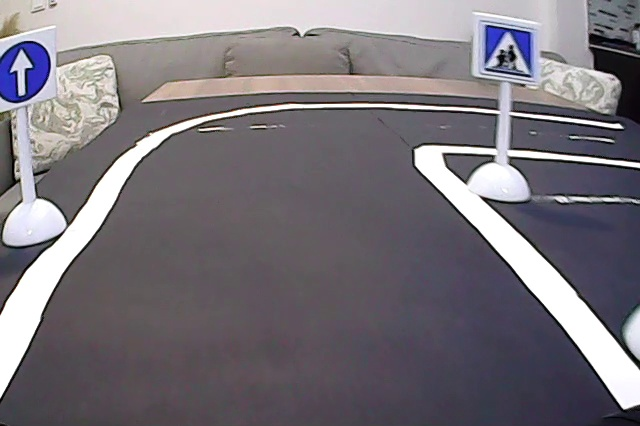school crossing: (479, 21, 536, 82)
